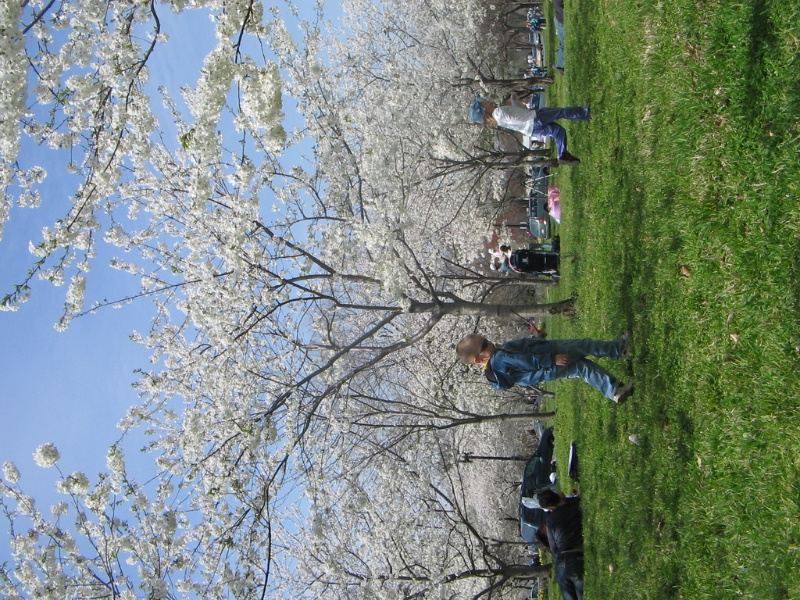person: (433, 324, 640, 421), (452, 92, 598, 170), (523, 484, 591, 600), (465, 233, 567, 275)
